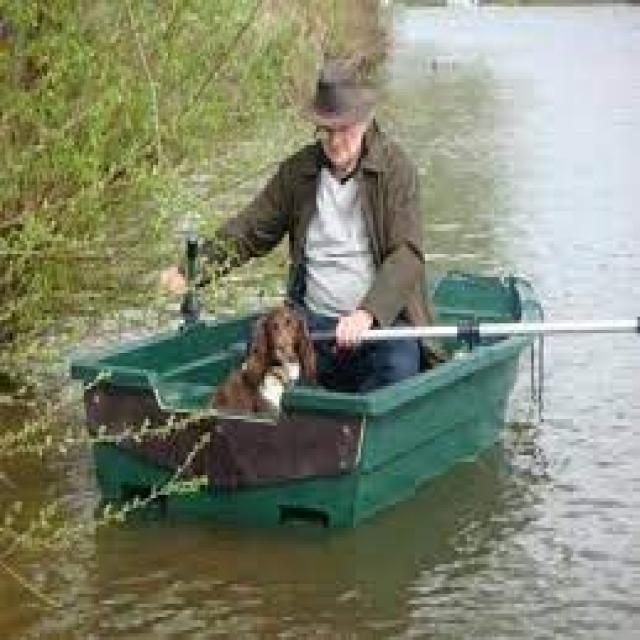ship2: (82, 61, 545, 538)
